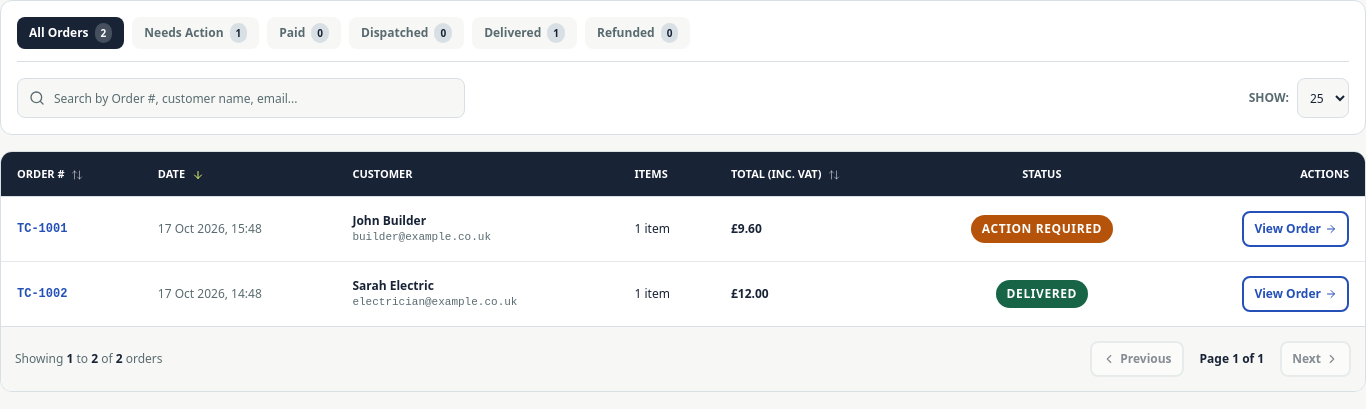
Test: ToolCart Retail Admin Portal Hardening & Verification Suite › Feature 7: OrdersTable Interactive Lifecycle & Filter Console › filters orders by customer name search
Type "Sarah" into the field with placeholder "Search by Order #, customer name, email...".
click(241, 98); type("Sarah")  # box 17,78 -> 465,118
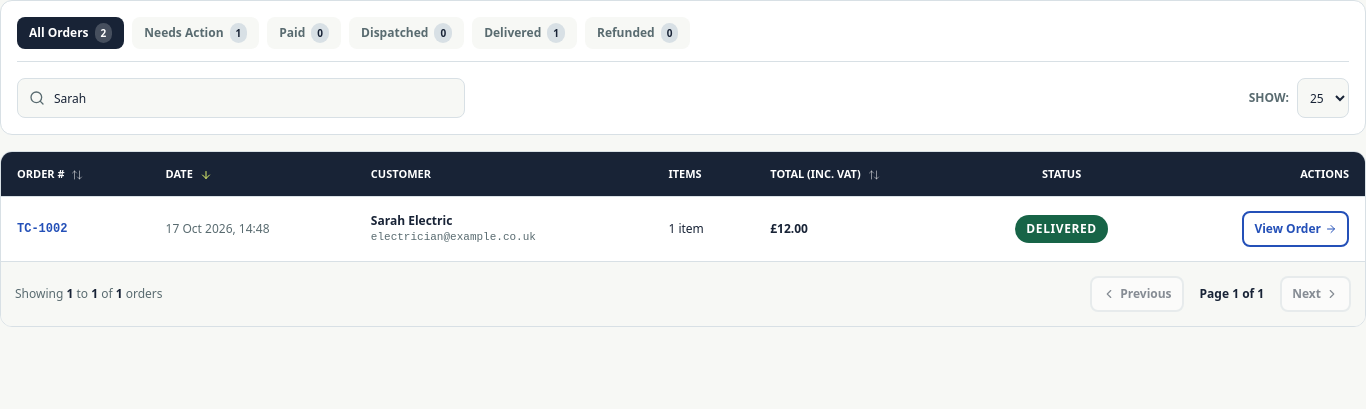
Expected: the text "TC-1002" is shown, 1,196 -> 150,261
Now the text "TC-1001" is gone
